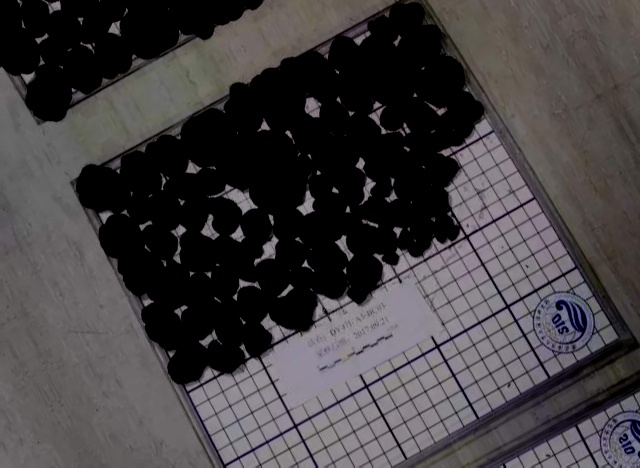halobolite: (66, 151, 137, 224), (274, 124, 349, 164), (313, 31, 356, 95), (394, 189, 466, 226), (267, 293, 321, 335), (115, 179, 154, 235), (384, 5, 422, 62), (315, 237, 361, 281), (291, 83, 340, 123), (115, 230, 160, 272), (397, 126, 443, 167), (346, 118, 390, 159), (180, 131, 218, 178), (388, 158, 439, 193), (213, 156, 248, 207), (256, 81, 296, 124), (191, 292, 230, 336), (429, 88, 476, 124), (139, 156, 182, 195), (398, 73, 441, 111), (196, 336, 244, 368), (337, 87, 376, 126), (403, 213, 447, 247), (260, 185, 302, 219), (225, 114, 258, 157), (156, 241, 191, 281), (353, 153, 385, 196), (410, 27, 444, 65), (239, 282, 273, 320), (390, 113, 420, 156), (294, 179, 331, 213), (154, 202, 193, 234), (335, 211, 370, 246), (274, 161, 315, 190), (206, 209, 238, 246), (291, 210, 329, 241), (173, 346, 205, 382), (238, 195, 268, 233), (365, 23, 394, 62), (199, 106, 233, 138), (251, 145, 283, 178), (164, 175, 197, 206), (360, 196, 393, 226), (324, 185, 359, 213), (194, 179, 222, 214), (373, 89, 401, 123), (323, 166, 357, 193), (197, 248, 224, 282), (231, 86, 260, 117), (262, 217, 293, 244), (387, 205, 413, 237), (178, 225, 203, 258), (363, 224, 388, 250), (328, 146, 353, 171), (380, 180, 406, 204), (241, 167, 264, 193), (425, 121, 449, 145), (376, 235, 399, 258), (355, 247, 380, 267)
